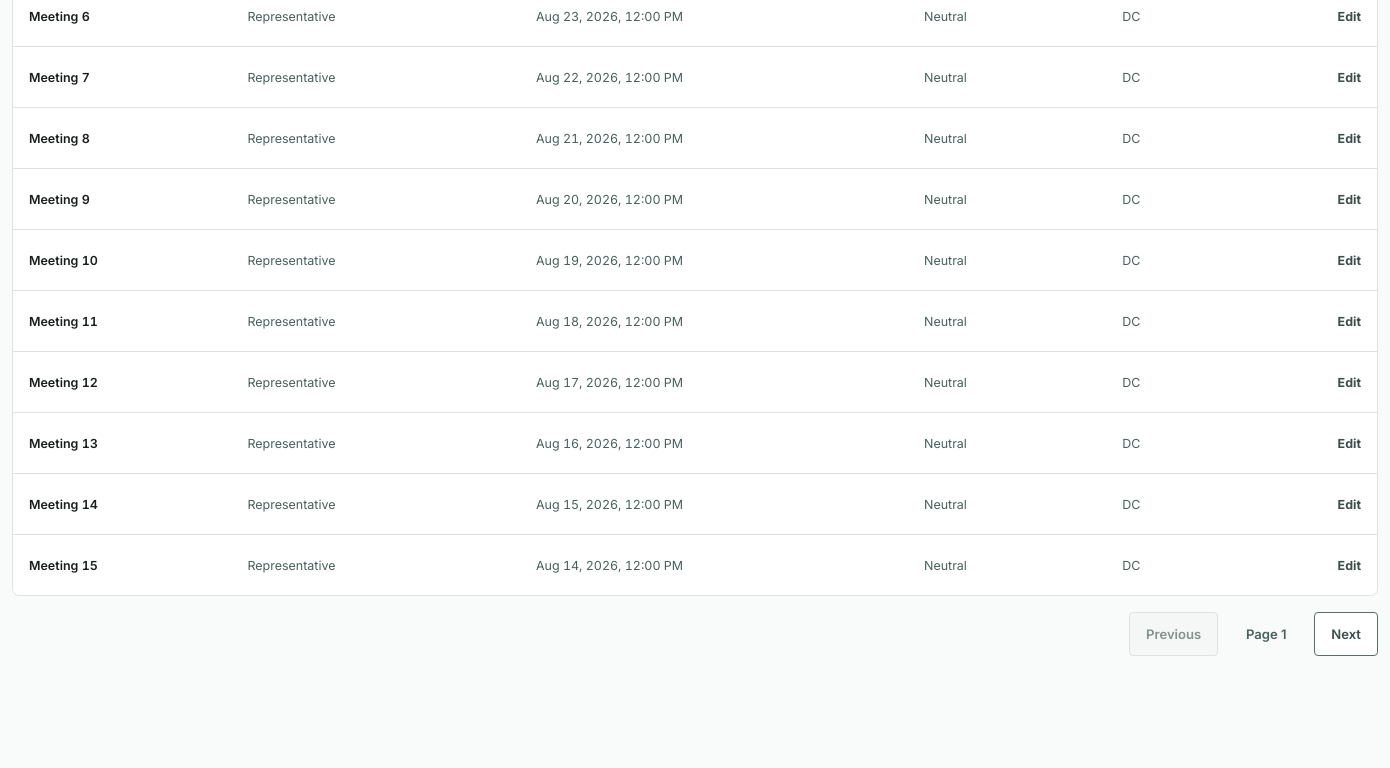
Test: paginates Meeting Reports with fifteen-record server pages
(page scrolled)
Expected: the text "Page 1" is shown, [1246,626,1287,642]
Expected: the button with aria-label "Previous page" is disabled, [1129,612,1218,656]
Click the button with aria-label "Next page" at (1346, 634), box [1314,612,1378,656]
(page scrolled)
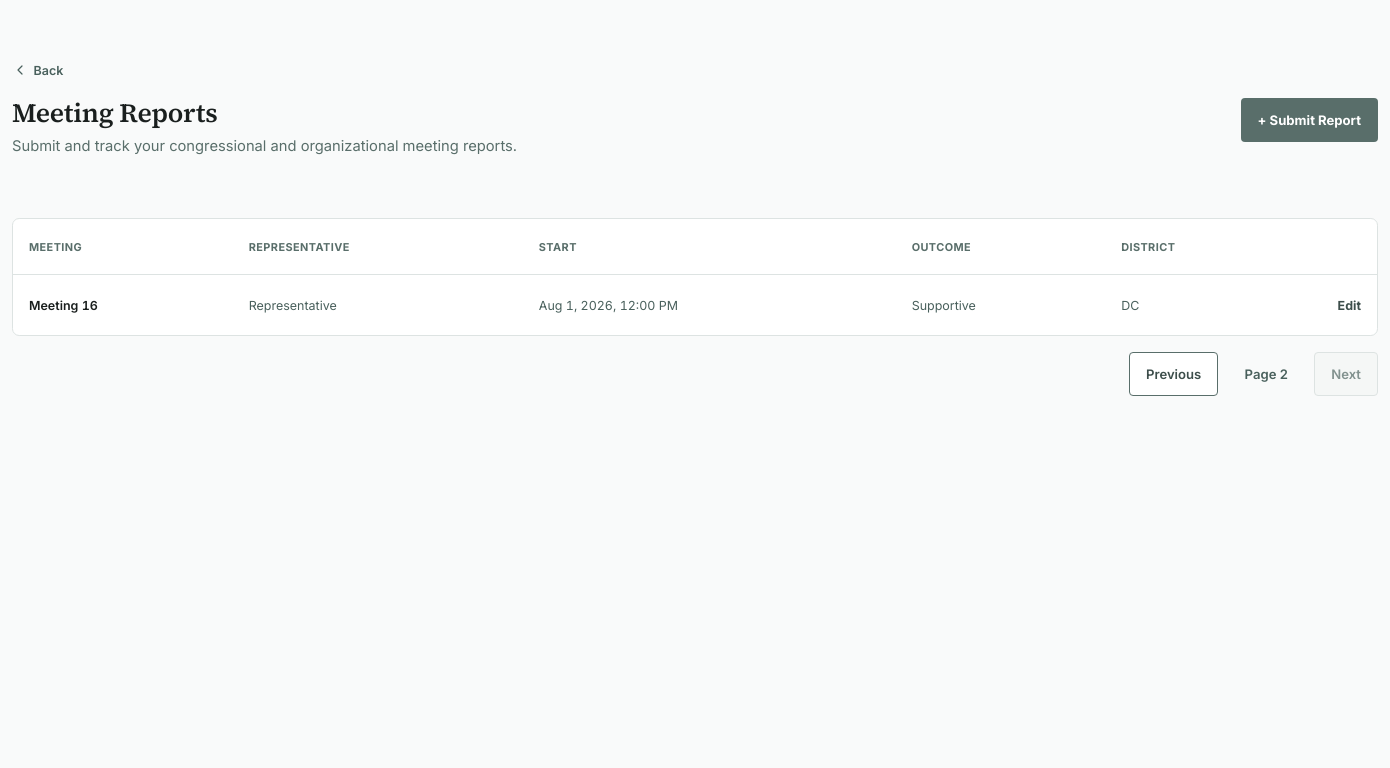
Now the column heading "Meeting 16" is shown, box [13,275,233,336]
Now the text "Page 2" is shown, box [1245,366,1288,382]
Now the button with aria-label "Previous page" is enabled
Click the button with aria-label "Previous page" at (1174, 374), box [1129,352,1218,396]
(page scrolled)
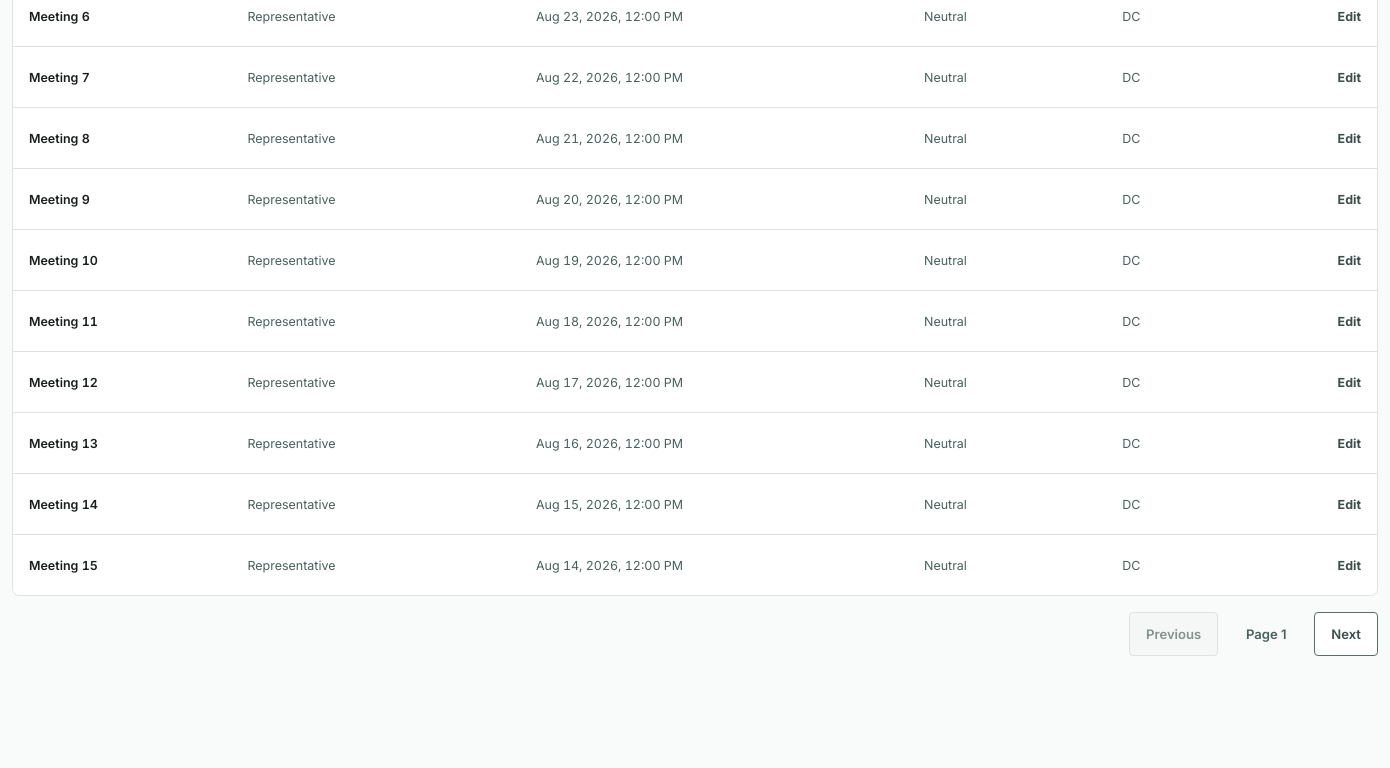
Now the text "Page 1" is shown, box [1246,626,1287,642]
Now the button with aria-label "Previous page" is disabled, box [1129,612,1218,656]
